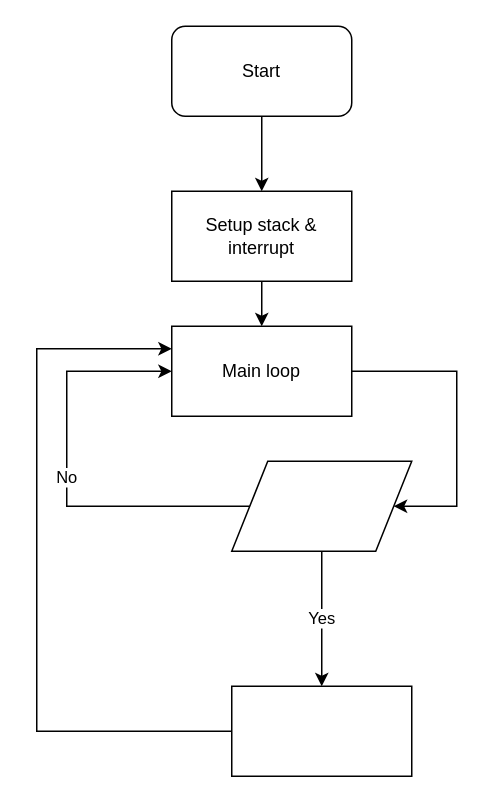
Some shapes in this 495 by 803 pixel diagram are drawn without their labels. The shapes that lost their labels are listed below. From the top down, each one's centre as x and y in pixels, then its label:
At (321,505): "Interrupt?".
At (321,730): "Switch LED state".
